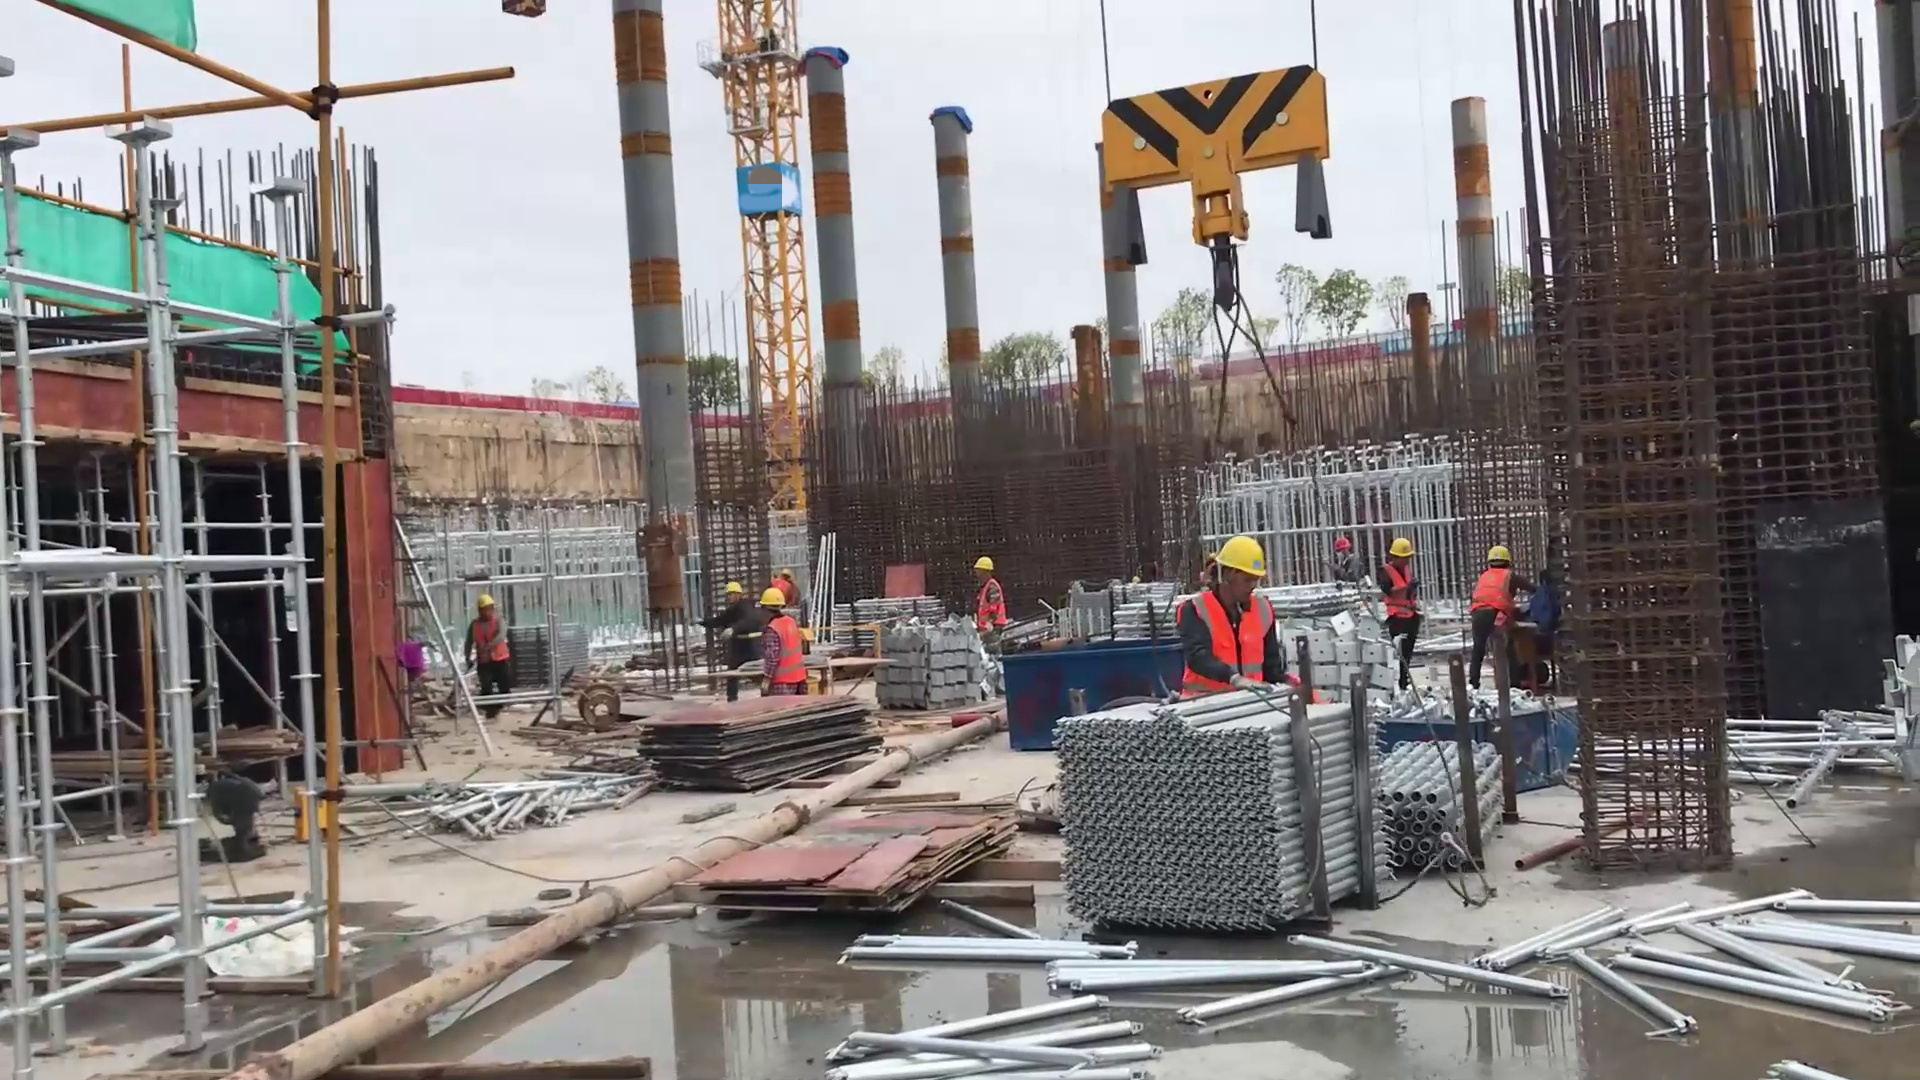board: (700, 801, 1029, 897), (638, 696, 874, 785)
helmet: (1206, 526, 1274, 584), (1485, 527, 1531, 583), (969, 550, 1015, 584), (715, 569, 755, 606), (1388, 519, 1433, 549), (1382, 529, 1423, 560), (766, 595, 829, 614), (473, 584, 506, 620), (1473, 537, 1519, 562), (1333, 533, 1363, 551)
hook: (1094, 57, 1346, 289)
hopper: (1389, 668, 1596, 797)
person: (1169, 518, 1279, 689), (456, 584, 525, 700), (952, 534, 1013, 649), (755, 585, 809, 689)
scaffold: (1042, 658, 1412, 954)
vest: (1156, 566, 1282, 693), (1379, 556, 1431, 638), (1470, 554, 1525, 624), (762, 623, 805, 689), (978, 587, 1021, 638), (474, 618, 509, 656)
